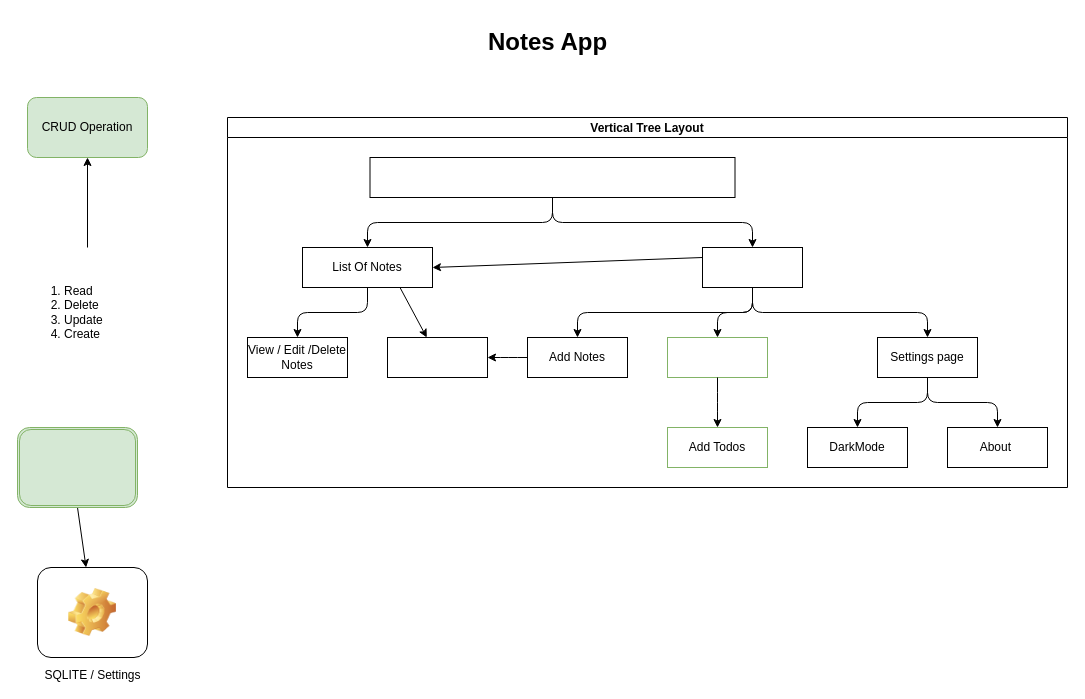
Image size: 1085x699. Some labels were removed from this diagram. The centre of each missing label's shape, as x and y in pixels:
"Add Notes Page" goes at point 437,357.
"Bottom Dial" goes at point 752,267.
"Persistent Storage" goes at point 77,467.
"Root" goes at point 552,177.
"Todo Page" goes at point 717,357.
